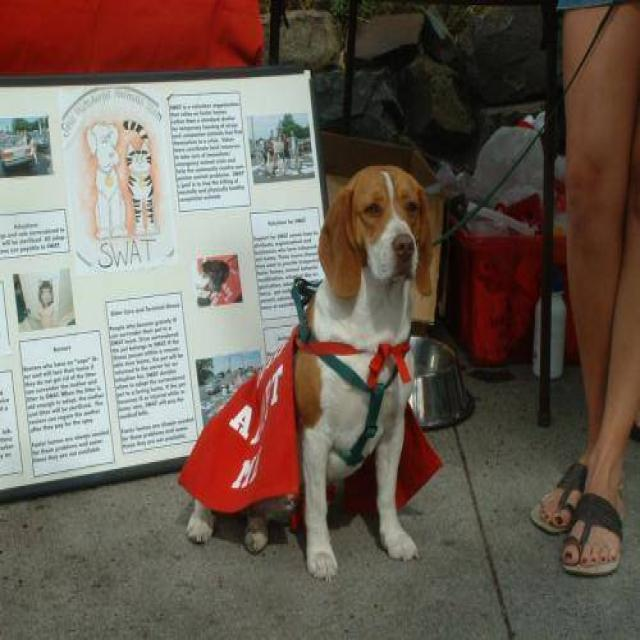dogs: (192, 146, 439, 576)
